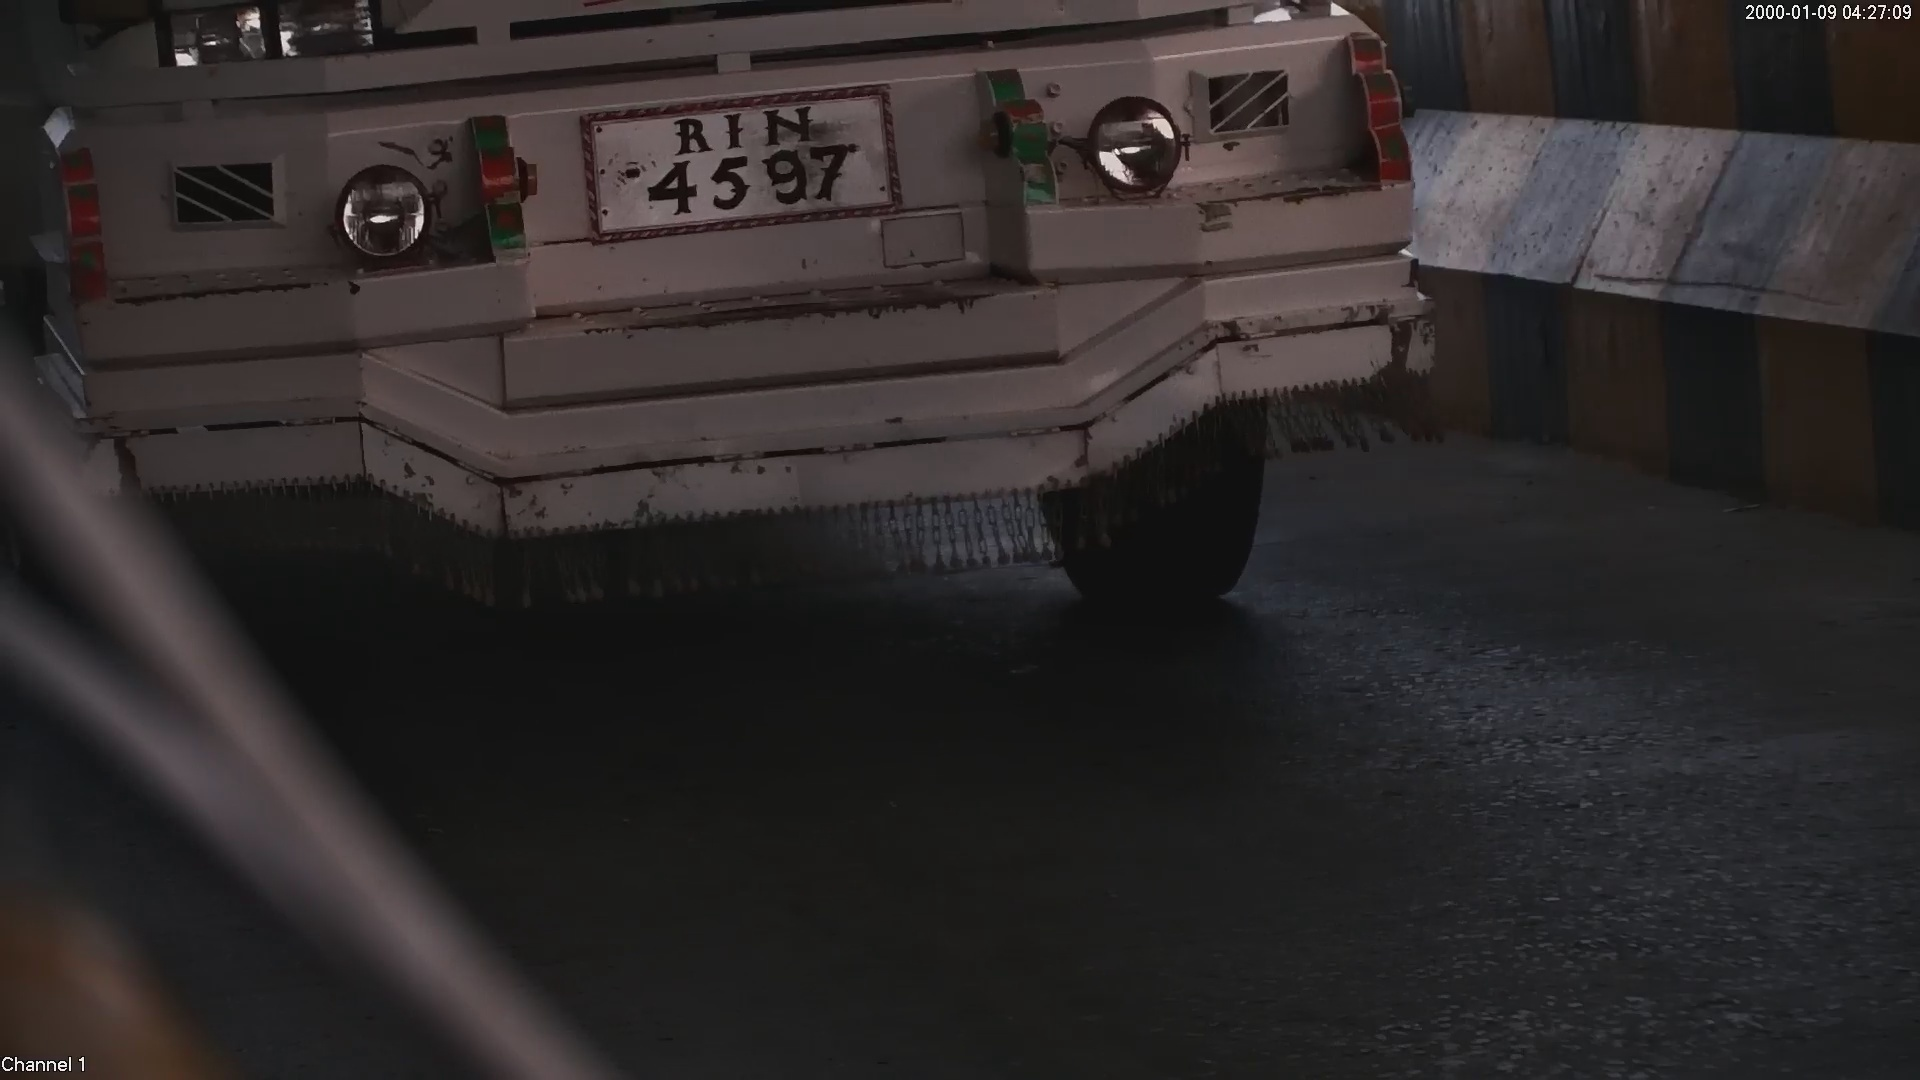Number_Plate: (558, 77, 917, 238)
